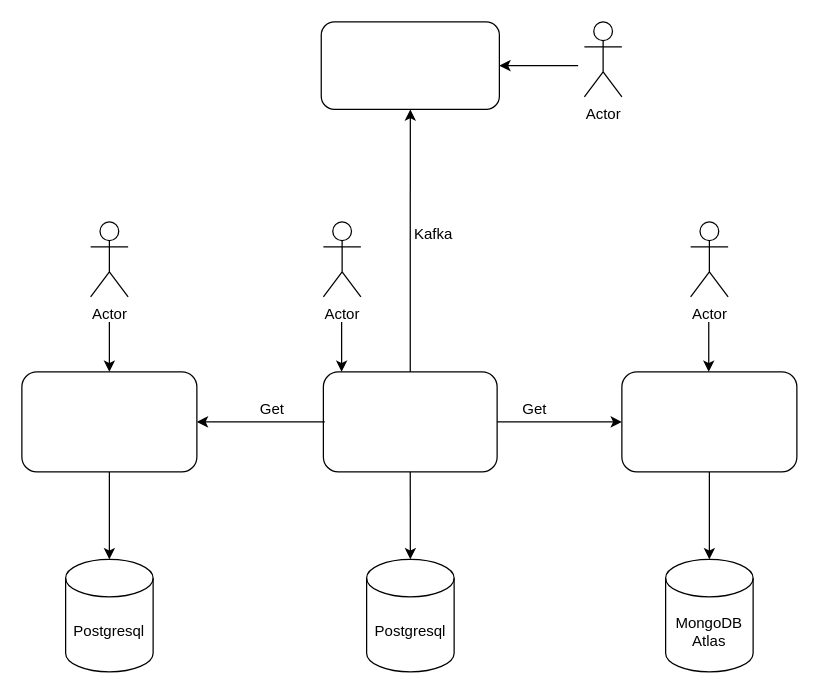
This 819x694 diagram has some shape labels left out. Here are the shapes that lost their labels. From the top down, the centre of each, then its label:
At pixel 409 65: "Notification-ms Python Kafka consuner".
At pixel 109 421: "HTTP REST Book-ms Django".
At pixel 409 421: "HTTP REST Borrowing-ms Django --------------------- Kafka procuder".
At pixel 709 421: "HTTP REST Customer-ms Django".
